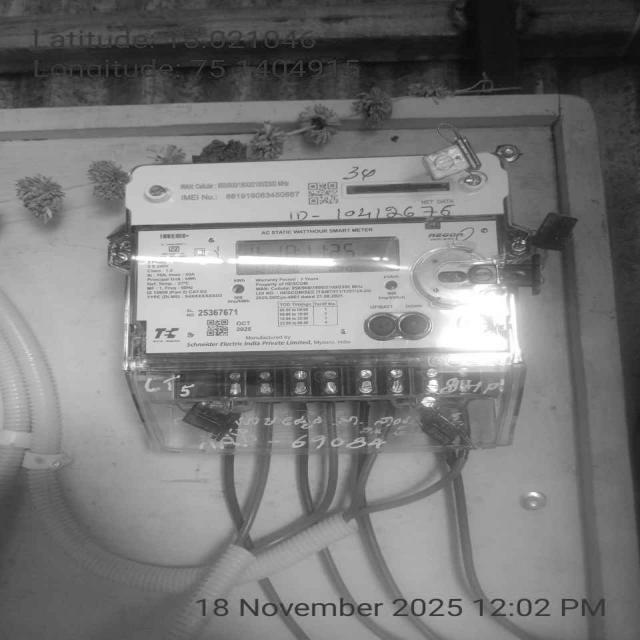meter: (120, 155, 523, 366)
